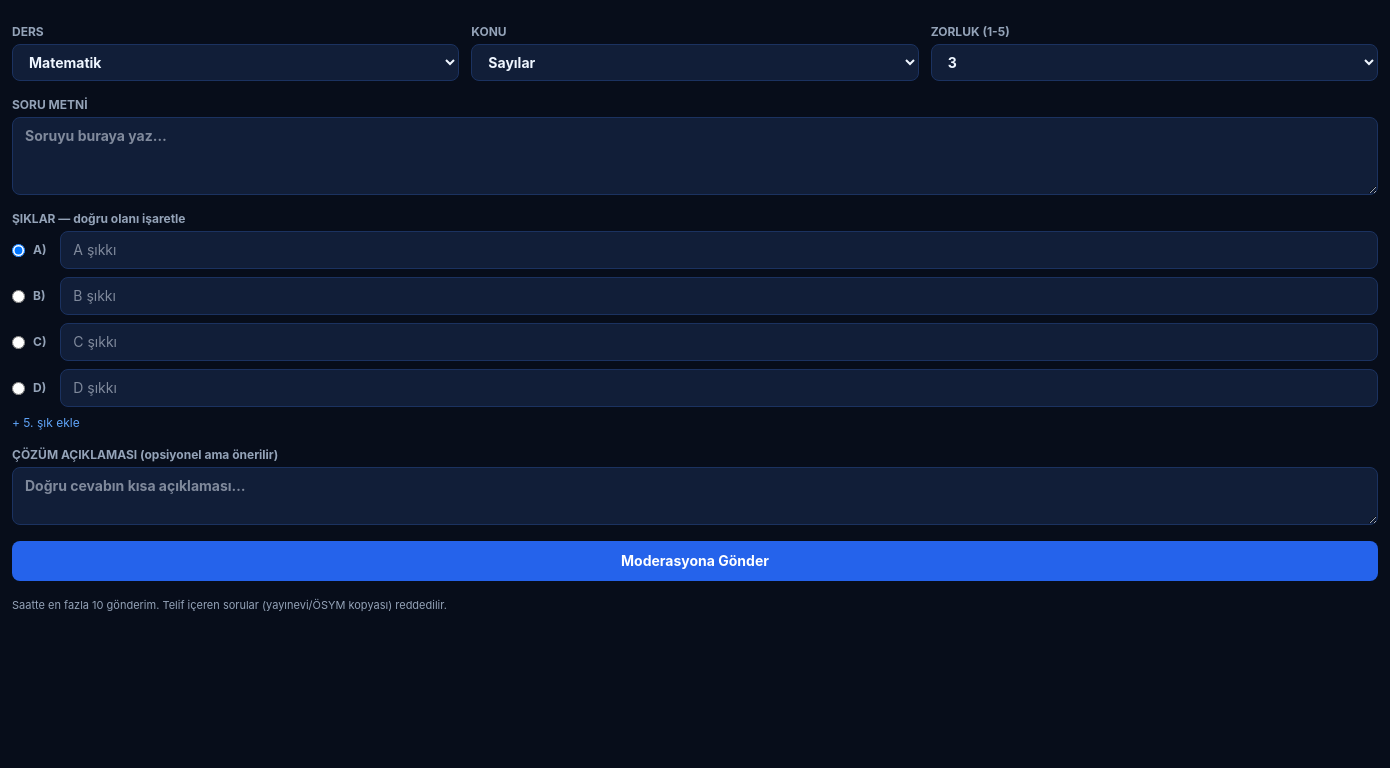
it: SubmitQuestionClient › bağlantı hatası: kullanıcı dostu mesaj
The image size is (1390, 768).
Type "Bir sayının %20 fazlası 60 ise bu sayı kaçtır?" into the text box with placeholder "Soruyu buraya yaz…" at (695, 156), box top-left (12, 117), bottom-right (1378, 195)
Type "40" into the field with placeholder "A şıkkı" at (719, 250), box top-left (60, 231), bottom-right (1378, 269)
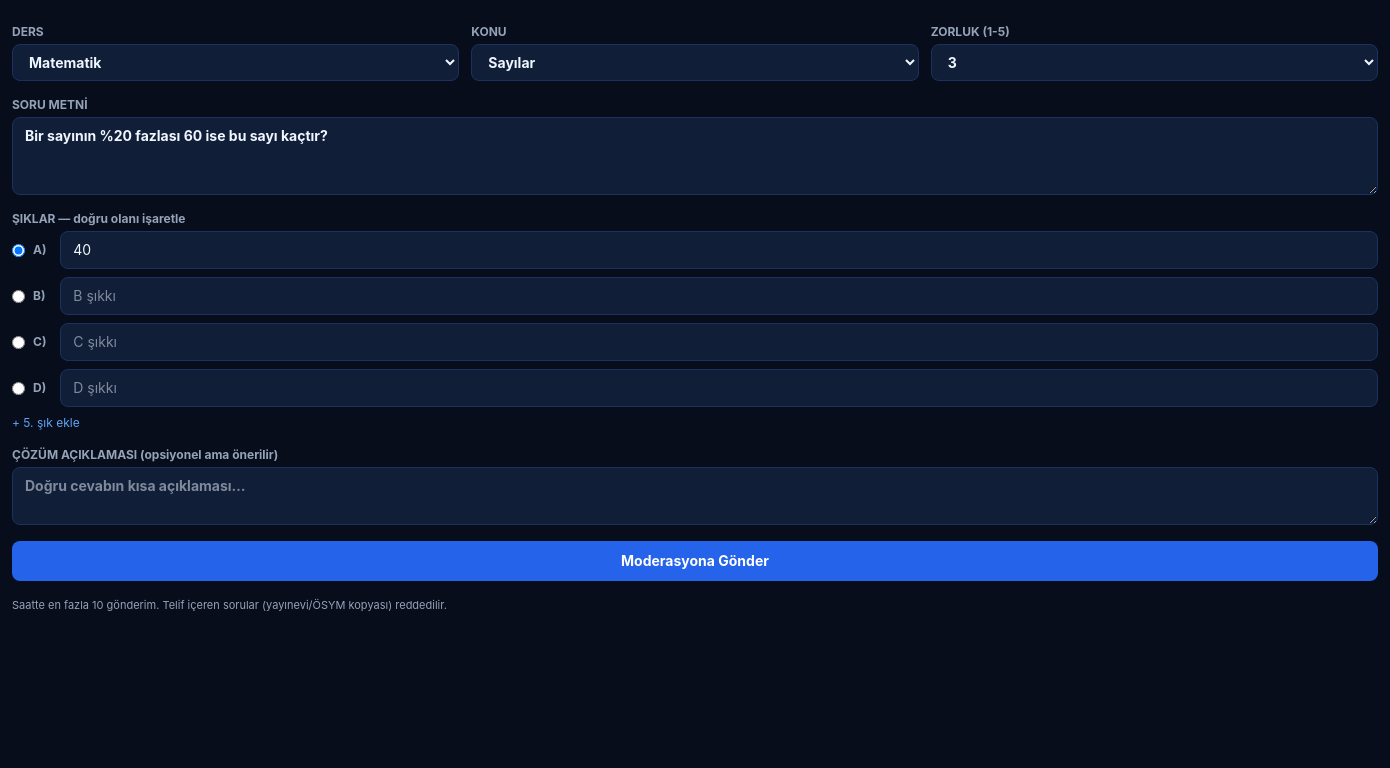
Type "50" into the field with placeholder "B şıkkı" at (719, 296), box top-left (60, 277), bottom-right (1378, 315)
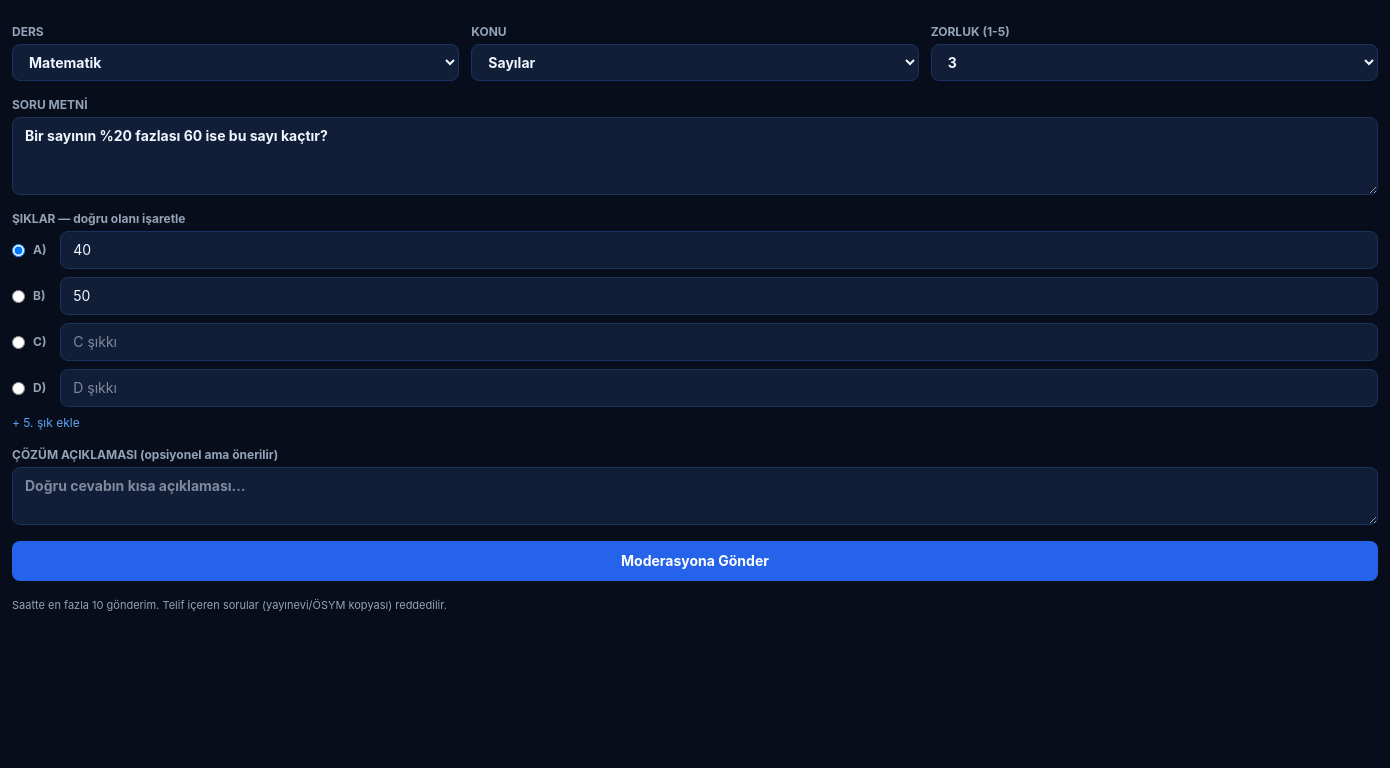
Type "48" into the field with placeholder "C şıkkı" at (719, 342), box top-left (60, 323), bottom-right (1378, 361)
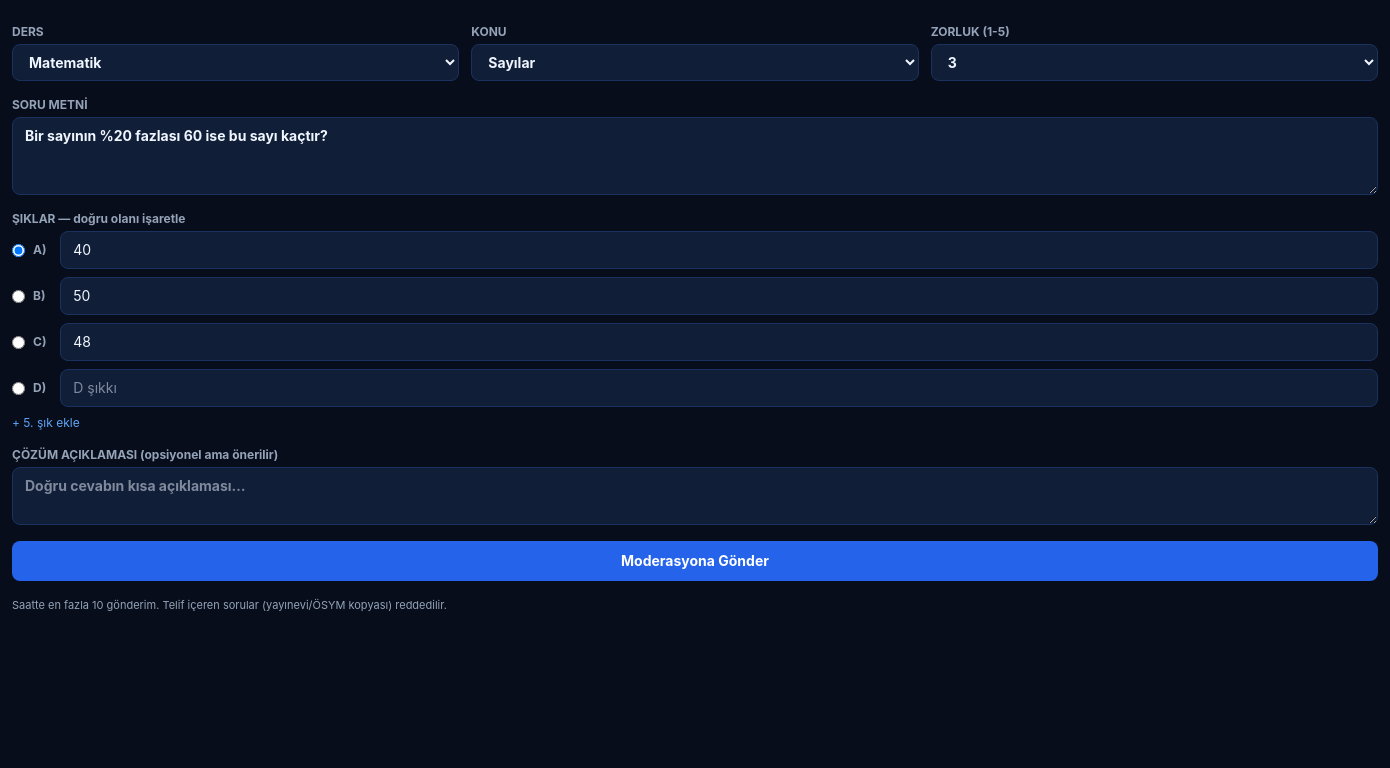
Type "52" into the field with placeholder "D şıkkı" at (719, 388), box top-left (60, 369), bottom-right (1378, 407)
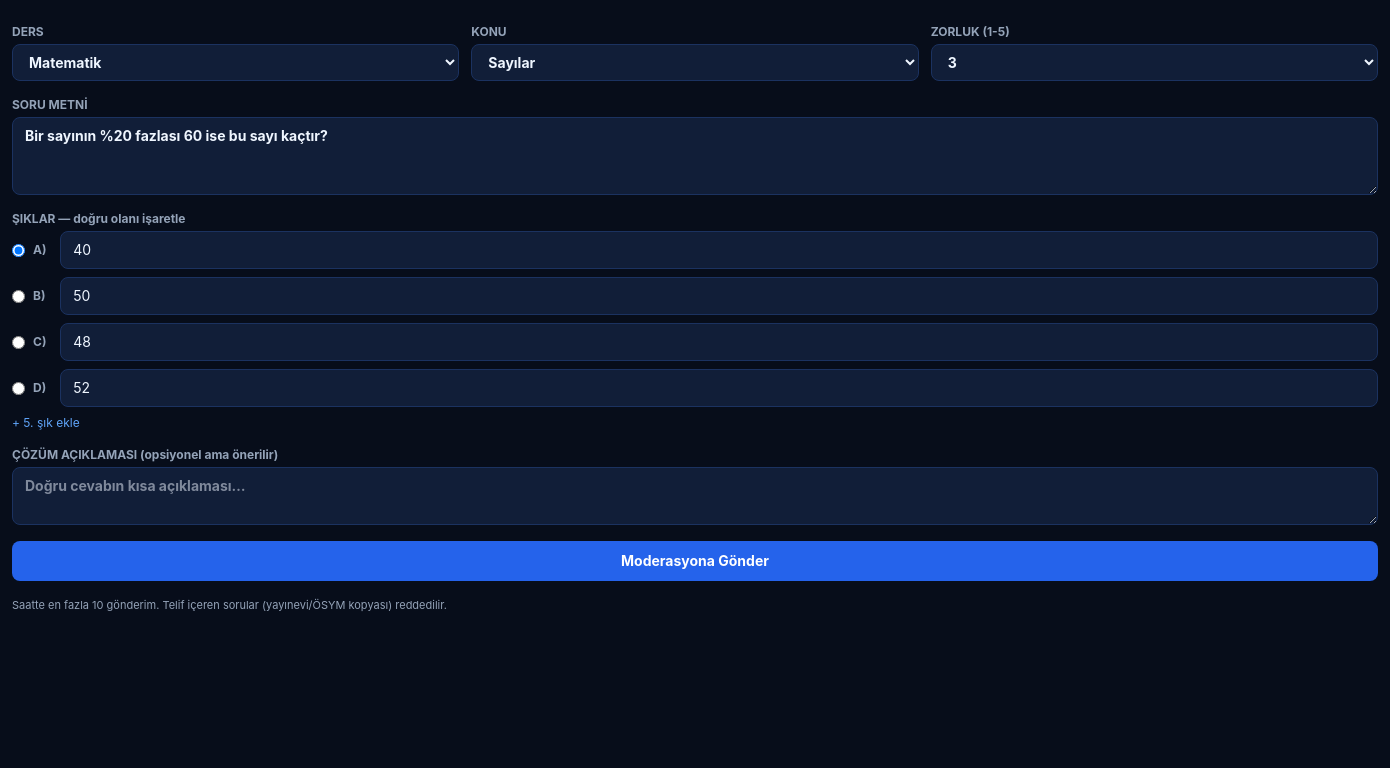
Click the radio button named "Doğru cevap B" at (18, 296), box top-left (12, 290), bottom-right (25, 302)
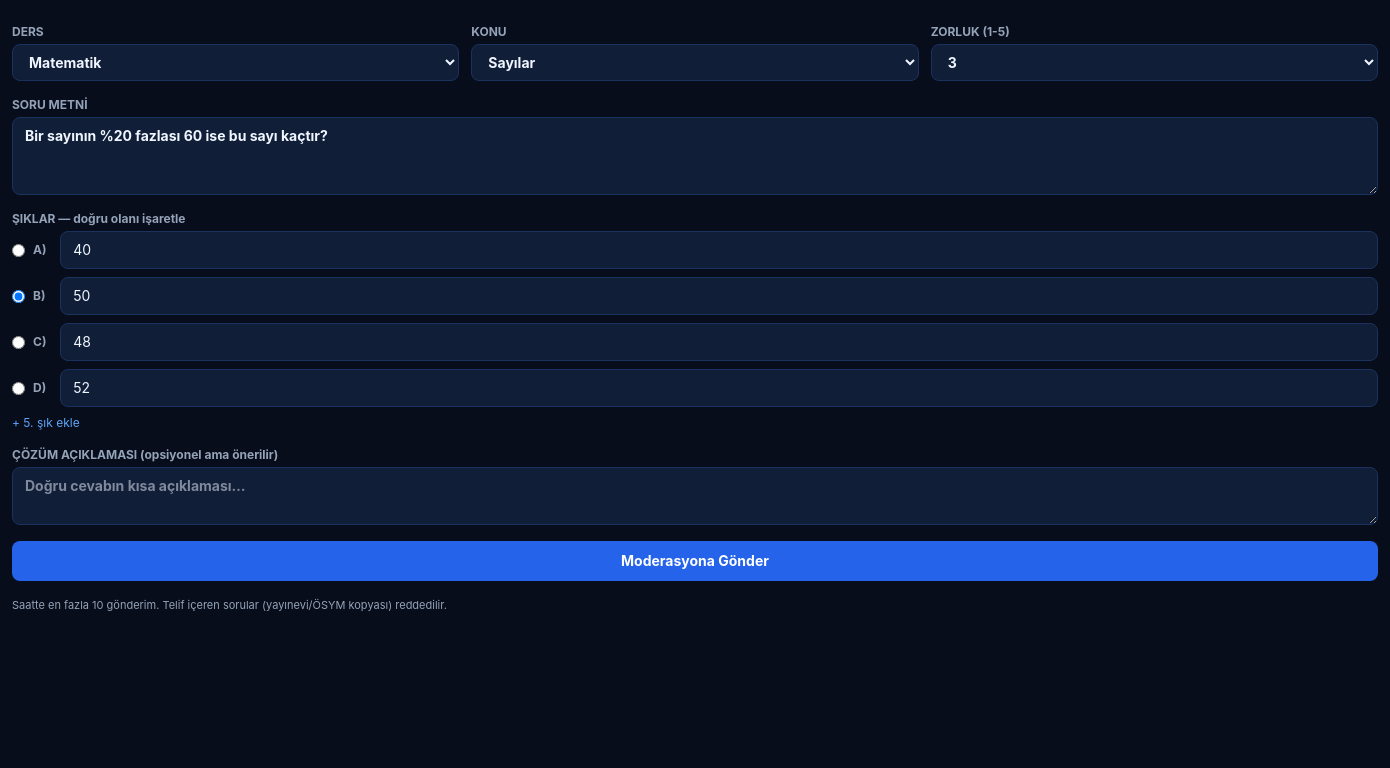
Click the button "Moderasyona Gönder" at (695, 561), box top-left (12, 541), bottom-right (1378, 581)
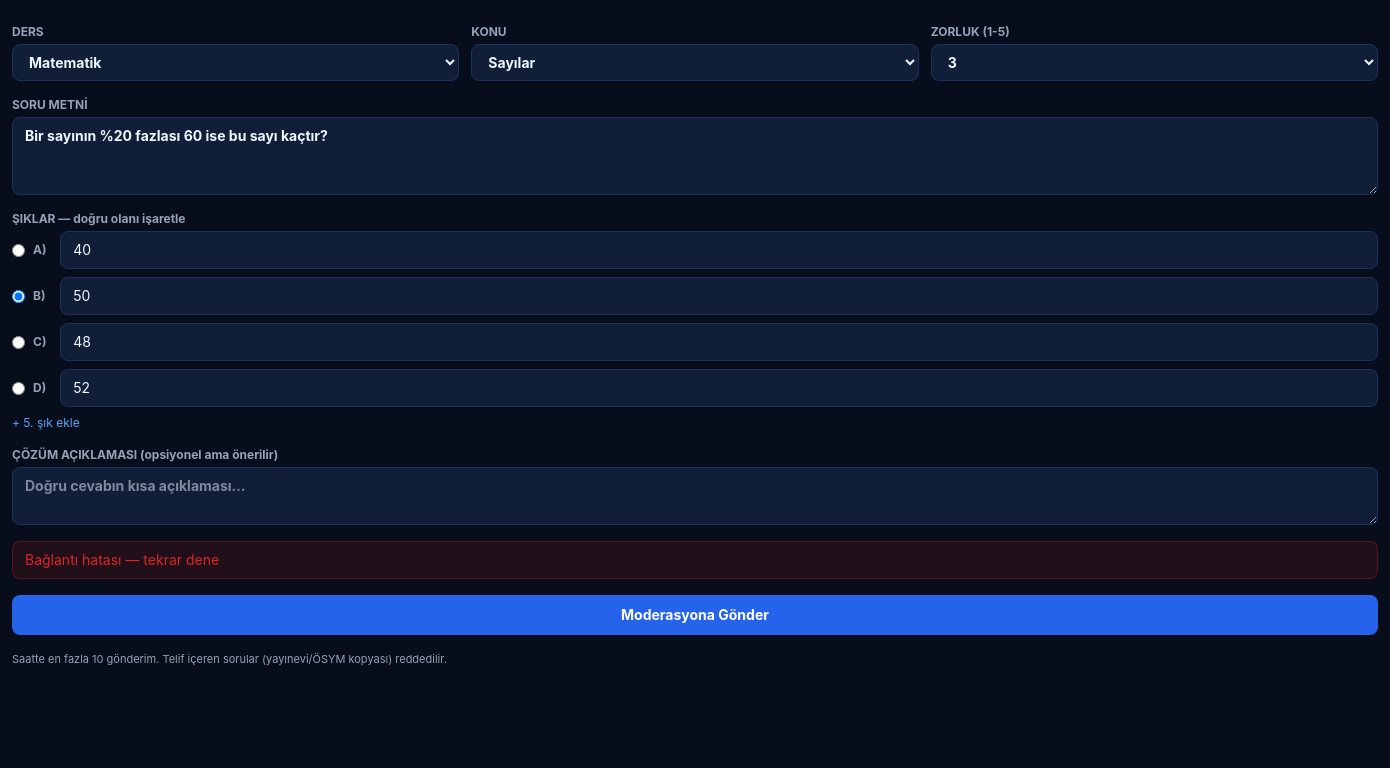
Expected: the text "Bağlantı hatası — tekrar dene" is shown, top-left (12, 541), bottom-right (1378, 579)
